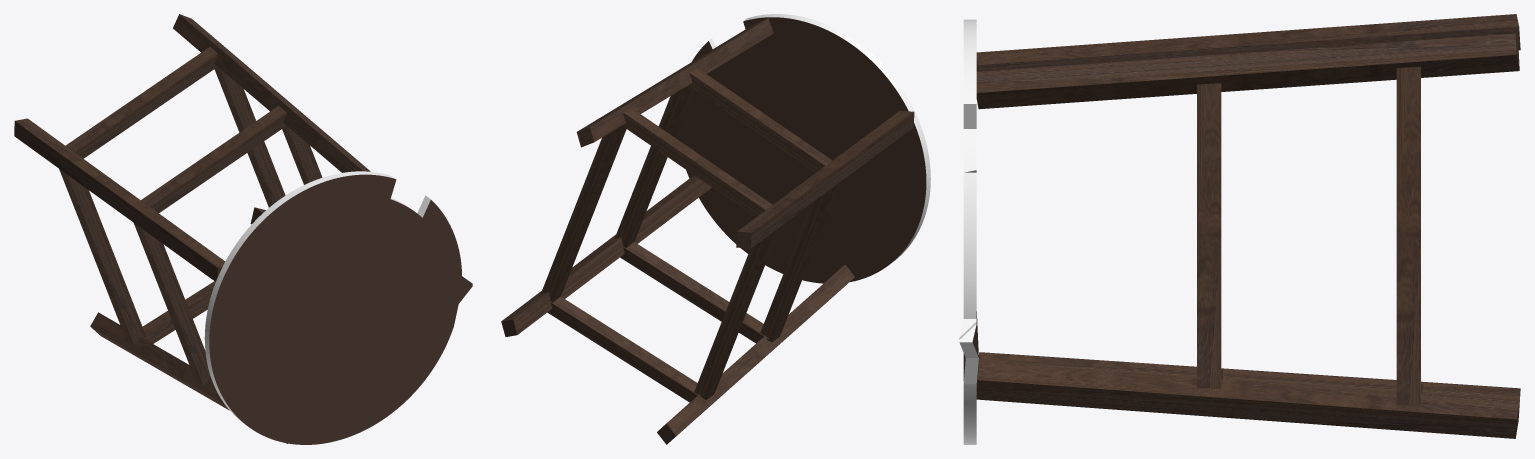
File: Stool4.glb
3 views of the same model, side by side, from view 1: azimuth 30°, elevation 25°; view 2: azimuth 150°, elevation 25°; view 3: azimuth 270°, elevation 25° (orthographic). The views are drawn at different scales.
Parts seen in each view (by area): view 1: Circle.009; view 2: Circle.009; view 3: Circle.009.
Part boxes in pixels (x1,y1,x2,y2): Circle.009: (14, 14, 472, 444); Circle.009: (501, 14, 930, 444); Circle.009: (959, 14, 1520, 444).
Bounding box in the file's own units: 26.63 × 28.75 × 32.82.
Materials: 2 (1 with a texture image).
